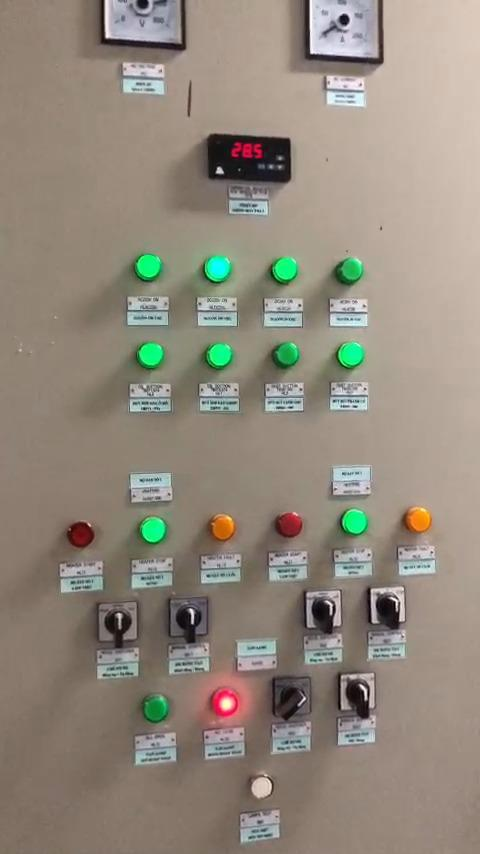led: (139, 691, 173, 724), (64, 520, 97, 550), (208, 689, 239, 719), (338, 255, 368, 285), (274, 511, 303, 541), (202, 255, 231, 284), (340, 506, 368, 536), (402, 506, 430, 536), (334, 340, 361, 370), (208, 512, 235, 542), (135, 253, 163, 281), (270, 256, 299, 283), (273, 341, 300, 370), (140, 518, 166, 546), (205, 344, 234, 369), (137, 342, 163, 368), (247, 774, 275, 797)
twist: (95, 598, 138, 642), (273, 675, 313, 720), (169, 596, 208, 640), (303, 590, 343, 631), (340, 671, 376, 714), (368, 586, 405, 626)
